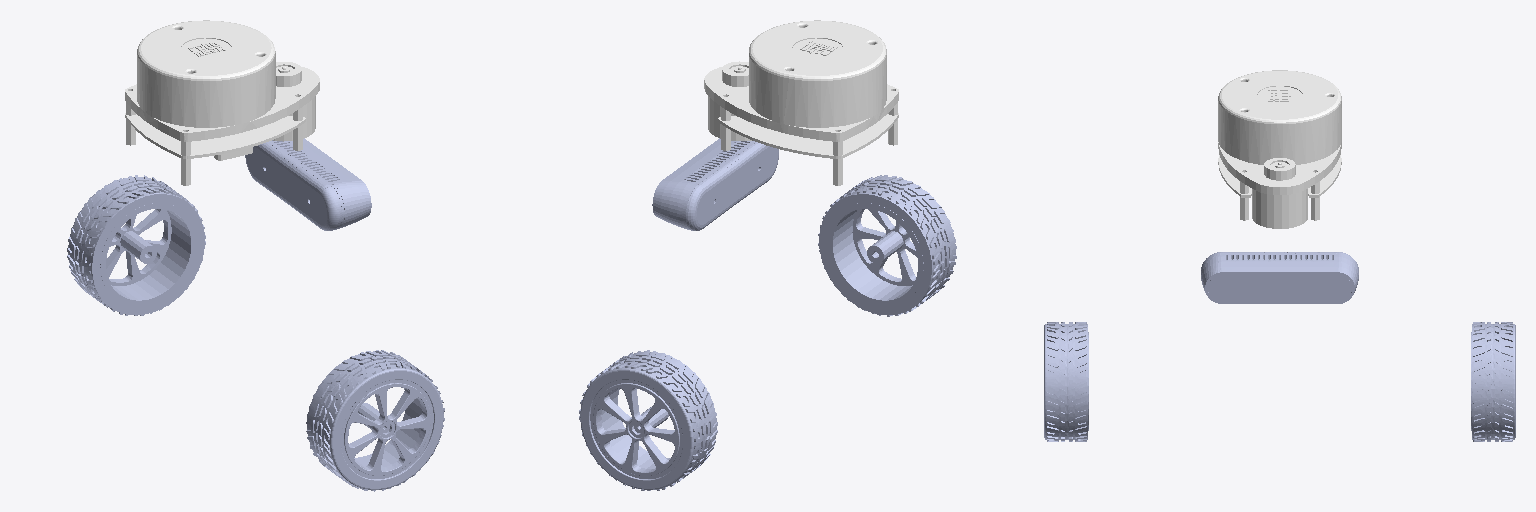
robot.urdf — robot_description:
<?xml version="1.0" encoding="utf-8"?>
<!-- This URDF was automatically created by SolidWorks to URDF Exporter! Originally created by [author] ([email redacted]) 
     Commit Version: 1.6.0-1-g15f4949  Build Version: 1.6.7594.29634
     For more information, please see http://wiki.ros.org/sw_urdf_exporter -->
<robot
  name="robot_description">
  <link
    name="base_link">
    <inertial>
      <origin
        xyz="0.0035754 -1.518E-09 0.05893"
        rpy="0 0 0" />
      <mass
        value="0.33865" />
      <inertia
        ixx="0.00089067"
        ixy="1.0848E-09"
        ixz="8.0631E-12"
        iyy="0.00089441"
        iyz="-3.7721E-13"
        izz="0.0017779" />
    </inertial>
    <visual>
      <origin
        xyz="0 0 0"
        rpy="0 0 0" />
      <geometry>
        <mesh
          filename="package://robot_description/meshes/base_link.STL" />
      </geometry>
      <material
        name="">
        <color
          rgba="0.79216 0.81961 0.93333 1" />
      </material>
    </visual>
    <collision>
      <origin
        xyz="0 0 0"
        rpy="0 0 0" />
      <geometry>
        <mesh
          filename="package://robot_description/meshes/base_link.STL" />
      </geometry>
    </collision>
  </link>
  <link
    name="r_wheel">
    <inertial>
      <origin
        xyz="-5.8816E-06 -0.013217 6.9219E-06"
        rpy="0 0 0" />
      <mass
        value="0.044423" />
      <inertia
        ixx="2.0144E-05"
        ixy="-2.1565E-10"
        ixz="-7.2576E-09"
        iyy="3.5561E-05"
        iyz="-1.0364E-10"
        izz="2.0144E-05" />
    </inertial>
    <visual>
      <origin
        xyz="0 0 0"
        rpy="0 0 0" />
      <geometry>
        <mesh
          filename="package://robot_description/meshes/r_wheel.STL" />
      </geometry>
      <material
        name="">
        <color
          rgba="0.79216 0.81961 0.93333 1" />
      </material>
    </visual>
    <collision>
      <origin
        xyz="0 0 0"
        rpy="0 0 0" />
      <geometry>
        <mesh
          filename="package://robot_description/meshes/r_wheel.STL" />
      </geometry>
    </collision>
  </link>
  <joint
    name="r_wheel_joint"
    type="continuous">
    <origin
      xyz="0.051833 -0.1085 0.02"
      rpy="0 0 0" />
    <parent
      link="base_link" />
    <child
      link="r_wheel" />
    <axis
      xyz="0 -1 0" />
  </joint>
  <link
    name="l_wheel">
    <inertial>
      <origin
        xyz="9.01458438498648E-06 0.0132166249702712 -1.11460776607009E-06"
        rpy="0 0 0" />
      <mass
        value="0.044422854949021" />
      <inertia
        ixx="2.01509333913829E-05"
        ixy="-3.18027235118427E-11"
        ixz="-2.83951902060619E-09"
        iyy="3.55612270238749E-05"
        iyz="2.37159316317813E-10"
        izz="2.0137574928078E-05" />
    </inertial>
    <visual>
      <origin
        xyz="0 0 0"
        rpy="0 0 0" />
      <geometry>
        <mesh
          filename="package://robot_description/meshes/l_wheel.STL" />
      </geometry>
      <material
        name="">
        <color
          rgba="0.792156862745098 0.819607843137255 0.933333333333333 1" />
      </material>
    </visual>
    <collision>
      <origin
        xyz="0 0 0"
        rpy="0 0 0" />
      <geometry>
        <mesh
          filename="package://robot_description/meshes/l_wheel.STL" />
      </geometry>
    </collision>
  </link>
  <joint
    name="l_wheel_joint"
    type="continuous">
    <origin
      xyz="0.051833 0.1085 0.02"
      rpy="0 0 0" />
    <parent
      link="base_link" />
    <child
      link="l_wheel" />
    <axis
      xyz="0 1 0" />
  </joint>
  <link
    name="camera_link">
    <inertial>
      <origin
        xyz="-0.0130484997995744 0.00024619675186878 -6.05673365648429E-05"
        rpy="0 0 0" />
      <mass
        value="0.0447522009689823" />
      <inertia
        ixx="2.72775274833716E-05"
        ixy="2.44341098323841E-07"
        ixz="-1.17396572383072E-09"
        iyy="3.94471808587631E-06"
        iyz="-2.80138997339365E-09"
        izz="2.73620912559789E-05" />
    </inertial>
    <visual>
      <origin
        xyz="0 0 0"
        rpy="0 0 0" />
      <geometry>
        <mesh
          filename="package://robot_description/meshes/camera_link.STL" />
      </geometry>
      <material
        name="">
        <color
          rgba="0.792156862745098 0.819607843137255 0.933333333333333 1" />
      </material>
    </visual>
    <collision>
      <origin
        xyz="0 0 0"
        rpy="0 0 0" />
      <geometry>
        <mesh
          filename="package://robot_description/meshes/camera_link.STL" />
      </geometry>
    </collision>
  </link>
  <joint
    name="camera_joint"
    type="fixed">
    <origin
      xyz="0.094783 0 0.0985"
      rpy="0 0 0" />
    <parent
      link="base_link" />
    <child
      link="camera_link" />
    <axis
      xyz="0 0 0" />
  </joint>
  <link
    name="base_laser">
    <inertial>
      <origin
        xyz="0 0 0"
        rpy="0 0 0" />
      <mass
        value="0" />
      <inertia
        ixx="0"
        ixy="0"
        ixz="0"
        iyy="0"
        iyz="0"
        izz="0" />
    </inertial>
    <visual>
      <origin
        xyz="0 0 0"
        rpy="0 0 0" />
      <geometry>
        <mesh
          filename="package://robot_description/meshes/base_laser.STL" />
      </geometry>
      <material
        name="">
        <color
          rgba="1 1 1 1" />
      </material>
    </visual>
    <collision>
      <origin
        xyz="0 0 0"
        rpy="0 0 0" />
      <geometry>
        <mesh
          filename="package://robot_description/meshes/base_laser.STL" />
      </geometry>
    </collision>
  </link>
  <joint
    name="base_laser"
    type="fixed">
    <origin
      xyz="0.037083276307275 0 0.152600000000001"
      rpy="0 0 0" />
    <parent
      link="base_link" />
    <child
      link="base_laser" />
    <axis
      xyz="0 0 0" />
  </joint>
</robot>

--- Facts derived from the render (not from the file) ---
The picture shows the robot from 3 angles, left to right: view 1: azimuth 30°, elevation 25°; view 2: azimuth 150°, elevation 25°; view 3: azimuth 270°, elevation 25°; orthographic projection.
Robot: robot_description — 5 links, 4 joints (2 continuous, 2 fixed); root link base_link; default pose: every joint at zero.
Links seen in each view (by area): view 1: base_laser, l_wheel, r_wheel, camera_link; view 2: base_laser, r_wheel, l_wheel, camera_link; view 3: base_laser, camera_link, r_wheel, l_wheel.
Link boxes in pixels (x1,y1,x2,y2): base_laser: [125, 20, 319, 185]; l_wheel: [67, 175, 205, 315]; r_wheel: [306, 350, 444, 491]; camera_link: [245, 138, 371, 230]; base_laser: [704, 20, 898, 185]; r_wheel: [818, 175, 956, 316]; l_wheel: [579, 350, 717, 490]; camera_link: [652, 138, 778, 230]; base_laser: [1218, 70, 1341, 228]; camera_link: [1201, 252, 1358, 303]; r_wheel: [1044, 322, 1088, 441]; l_wheel: [1471, 322, 1515, 441].
Size in the robot's own frame: 0.1069 by 0.267 by 0.1997 metres.
Meshes: 5 distinct files referenced, 4 mesh visuals loaded (4 binary STL); not drawn: 1 (reference not matched to a file when rendering).